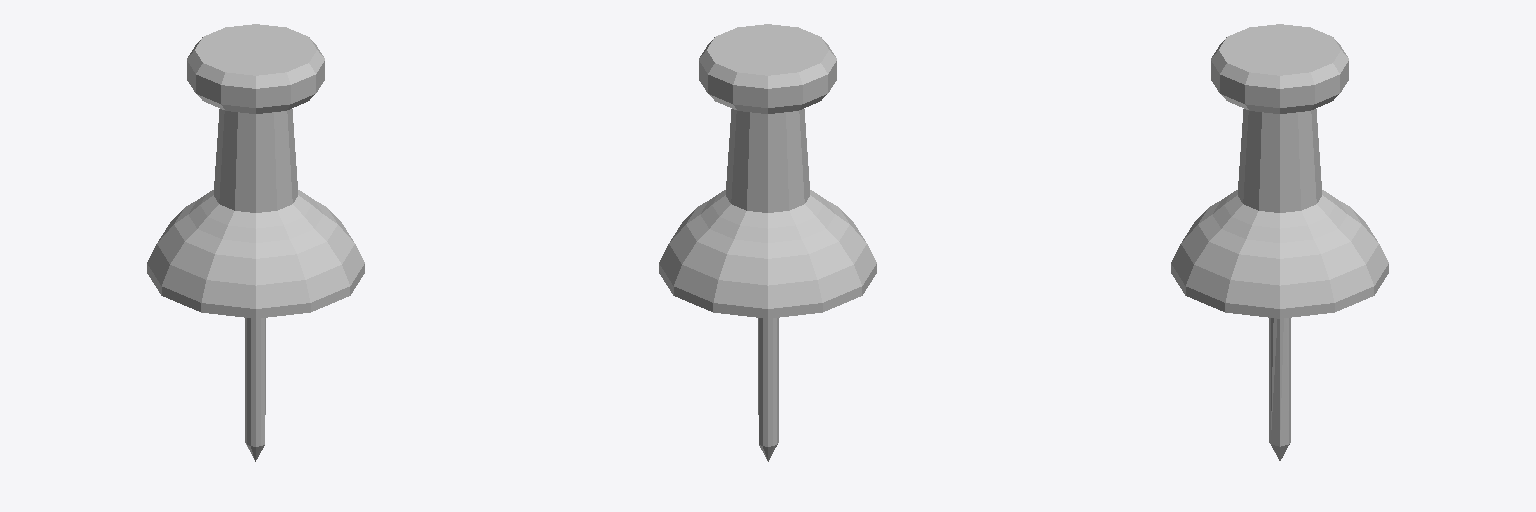
3 views of the same model, side by side, from view 1: azimuth 30°, elevation 25°; view 2: azimuth 150°, elevation 25°; view 3: azimuth 270°, elevation 25° (orthographic).
Parts seen in each view (by area): view 1: group[number redacted]; view 2: group[number redacted]; view 3: group[number redacted].
Boxes of the visible parts, <box> form: group[number redacted]: <box>147,24,364,461</box>; group[number redacted]: <box>659,24,876,461</box>; group[number redacted]: <box>1171,24,1388,460</box>.
Size of the model in its own units: 0.2041 by 0.4254 by 0.2041.